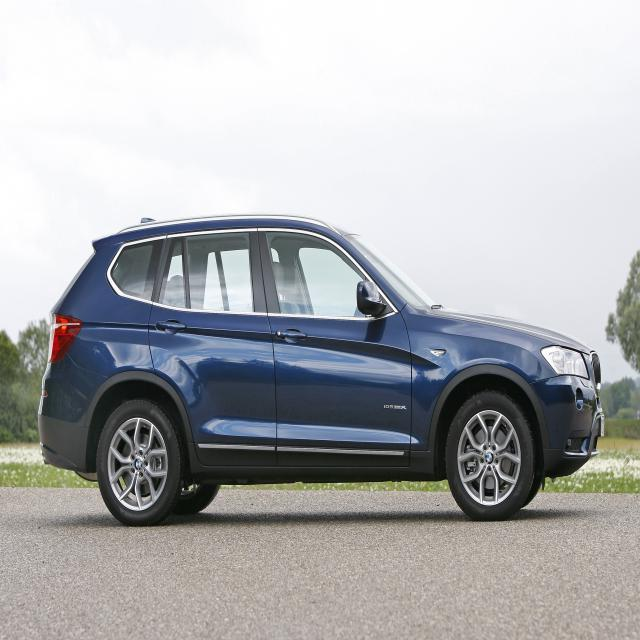Zeep: (27, 210, 609, 543)
